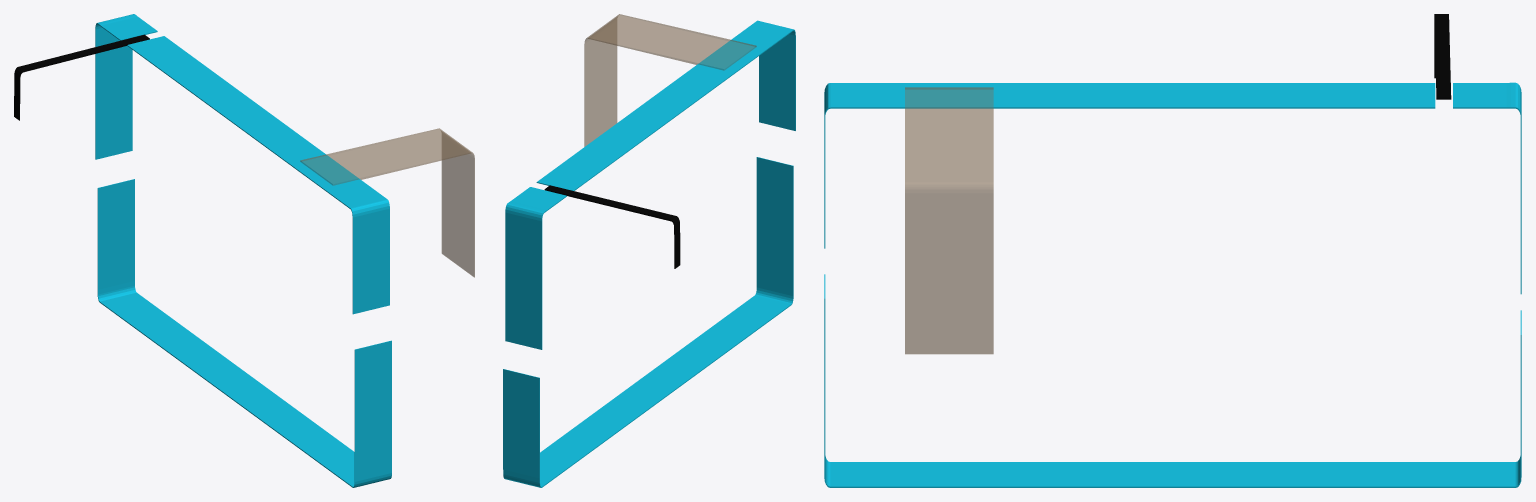
The model's file is tape_open_11.fbx.
The picture shows the model from 3 angles, left to right: view 1: azimuth 30°, elevation 25°; view 2: azimuth 150°, elevation 25°; view 3: azimuth 270°, elevation 25°; orthographic projection. The views are drawn at different scales.
Parts seen in each view (by area): view 1: tape_0.023, 평면.088, 평면.089; view 2: tape_0.023, 평면.088, 평면.089; view 3: tape_0.023, 평면.088, 평면.089.
Part boxes in pixels (left/top/right/bottom): tape_0.023: left=95, top=14, right=391, bottom=487; 평면.088: left=300, top=128, right=474, bottom=277; 평면.089: left=14, top=34, right=149, bottom=120; tape_0.023: left=503, top=20, right=795, bottom=487; 평면.088: left=584, top=14, right=756, bottom=146; 평면.089: left=544, top=185, right=680, bottom=268; tape_0.023: left=824, top=82, right=1521, bottom=487; 평면.088: left=905, top=87, right=993, bottom=354; 평면.089: left=1434, top=14, right=1451, bottom=99.
Size of the model in its own units: 146 by 151 by 251.
